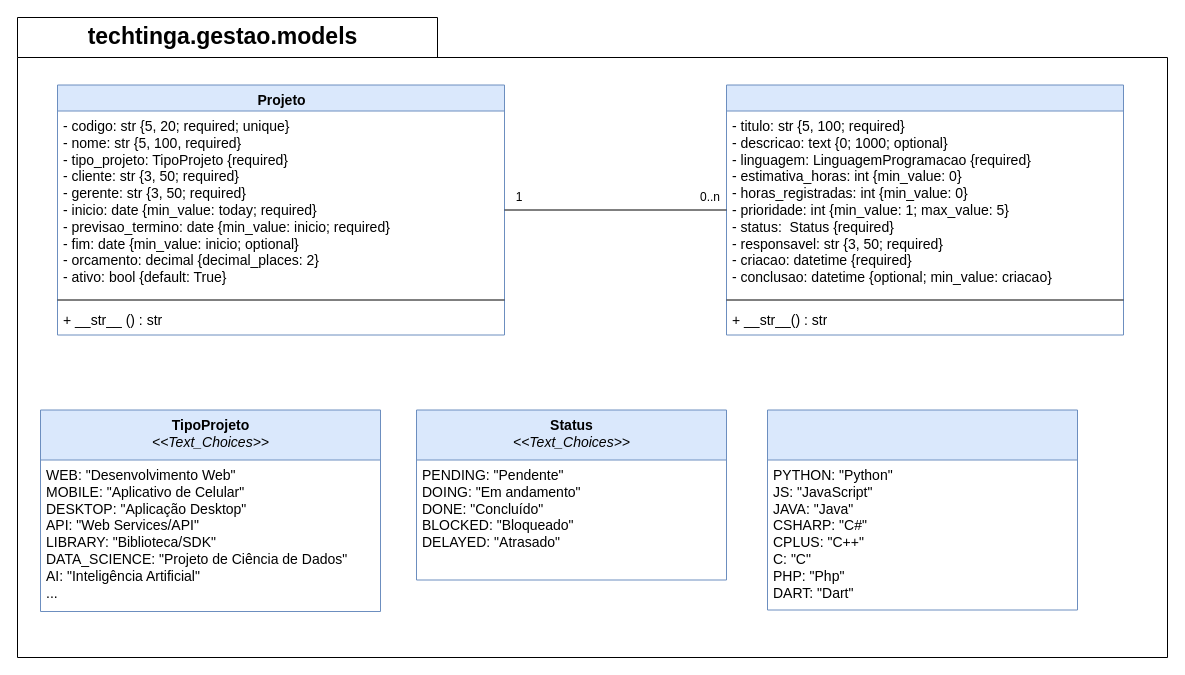
The diagram is 1185 pixels wide and 675 high, and some of its shapes have lost their labels. Here are the shapes that lost their labels. From the top down, the box of each, then its label:
(726, 84, 1124, 335): Tarefa
(766, 409, 1078, 610): LinguagemProgramacao <<Text_Choices>>
